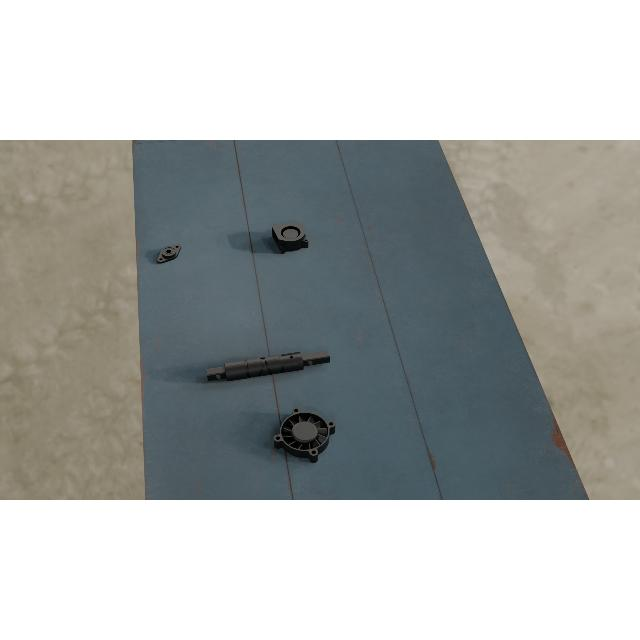Pieza1: (206, 344, 330, 388)
Pieza2: (152, 240, 186, 266)
Pieza3: (272, 219, 310, 255)
Pieza4: (271, 406, 337, 466)
